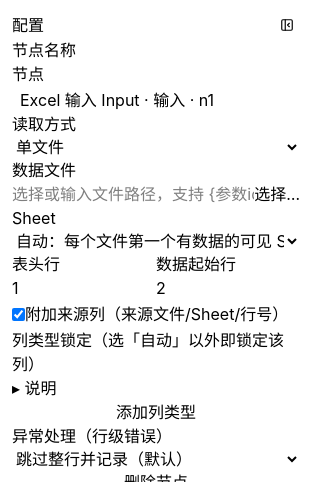
Test case: 数据流配置区：Sheet 名称候选 › 未选路径时提示，自动 Sheet 模式无需读取候选
Select "按名称指定" in the dropdown labelled "Sheet" at (156, 241), box x1=12 y1=230 x2=300 y2=252
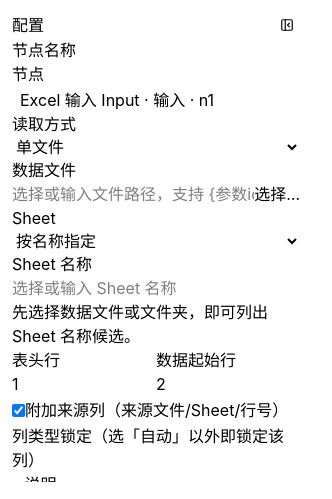
Result: the text "先选择数据文件或文件夹，即可列出 Sheet 名称候选。" is shown at x1=12 y1=300 x2=300 y2=348
